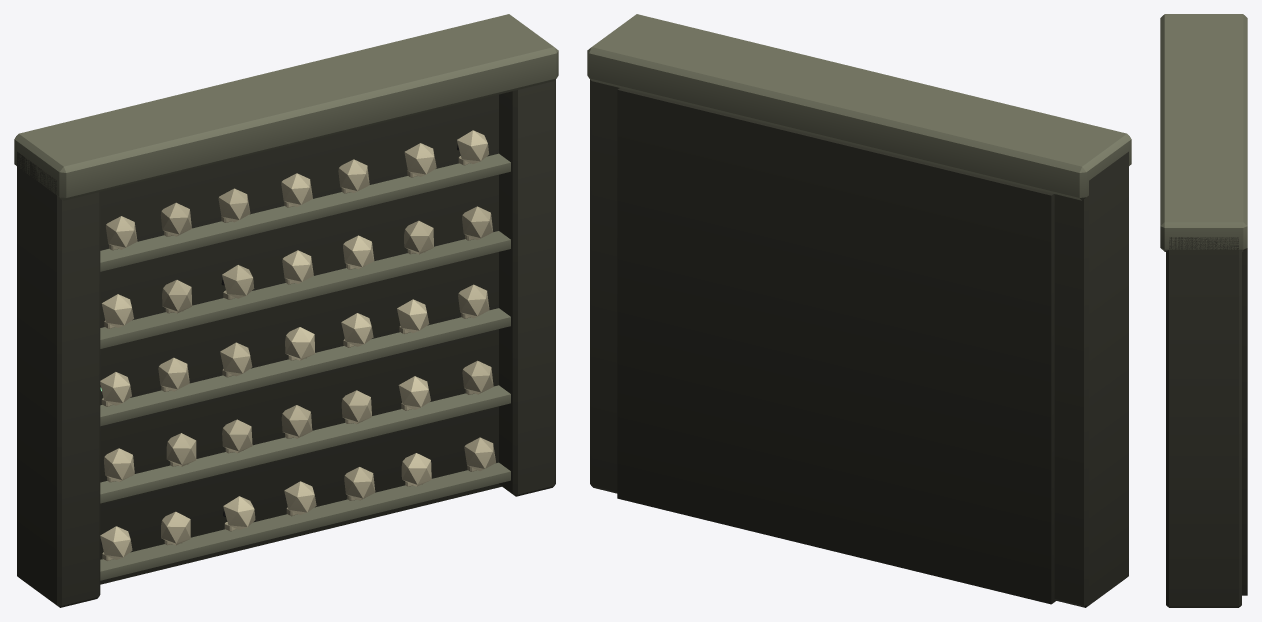
File: skull_wall.glb
The picture shows the model from 3 angles, left to right: view 1: azimuth 30°, elevation 25°; view 2: azimuth 150°, elevation 25°; view 3: azimuth 270°, elevation 25°; orthographic projection. The views are drawn at different scales.
Parts seen in each view (by area): view 1: skull_wall_mesh; view 2: skull_wall_mesh; view 3: skull_wall_mesh.
Boxes of the visible parts, x1=… form: skull_wall_mesh: x1=14, y1=14, x2=558, y2=607; skull_wall_mesh: x1=587, y1=14, x2=1131, y2=607; skull_wall_mesh: x1=1160, y1=14, x2=1247, y2=607.
Bounding box in the file's own units: 4.6 × 3.9 × 0.8.
